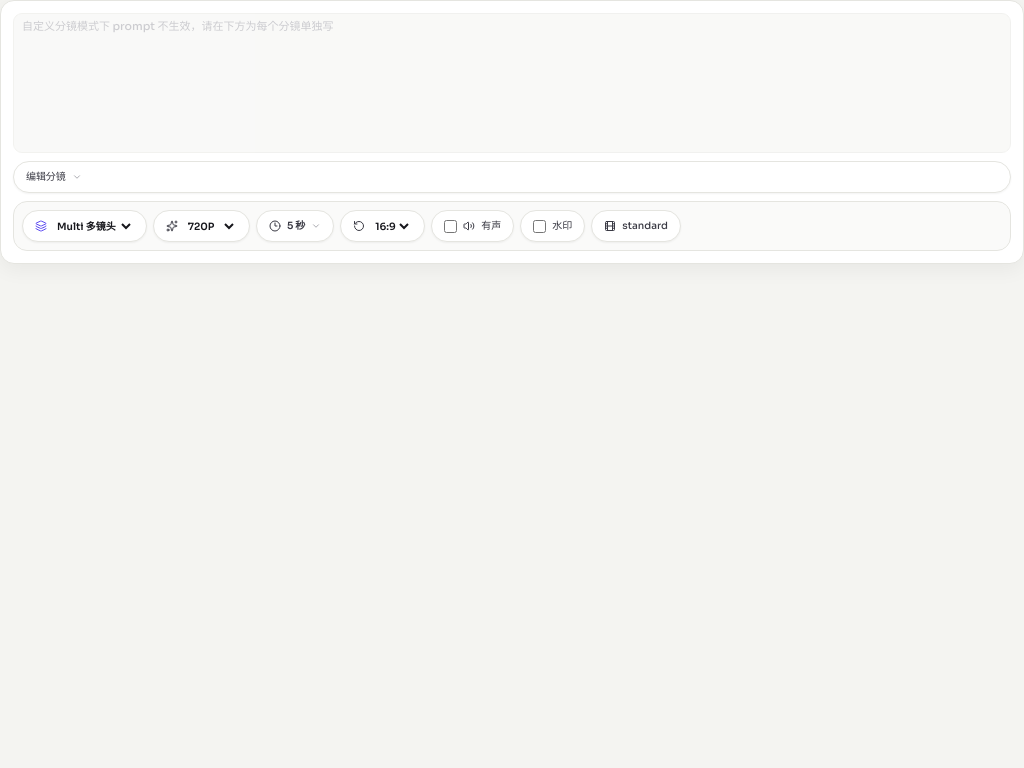
Test: KlingCard 多镜头模式 › Multi mode + 添加 1 个分镜后渲染 index=1 的输入
Click the button with aria-label "多镜头设置": point(46, 176) [13, 161, 1011, 193]
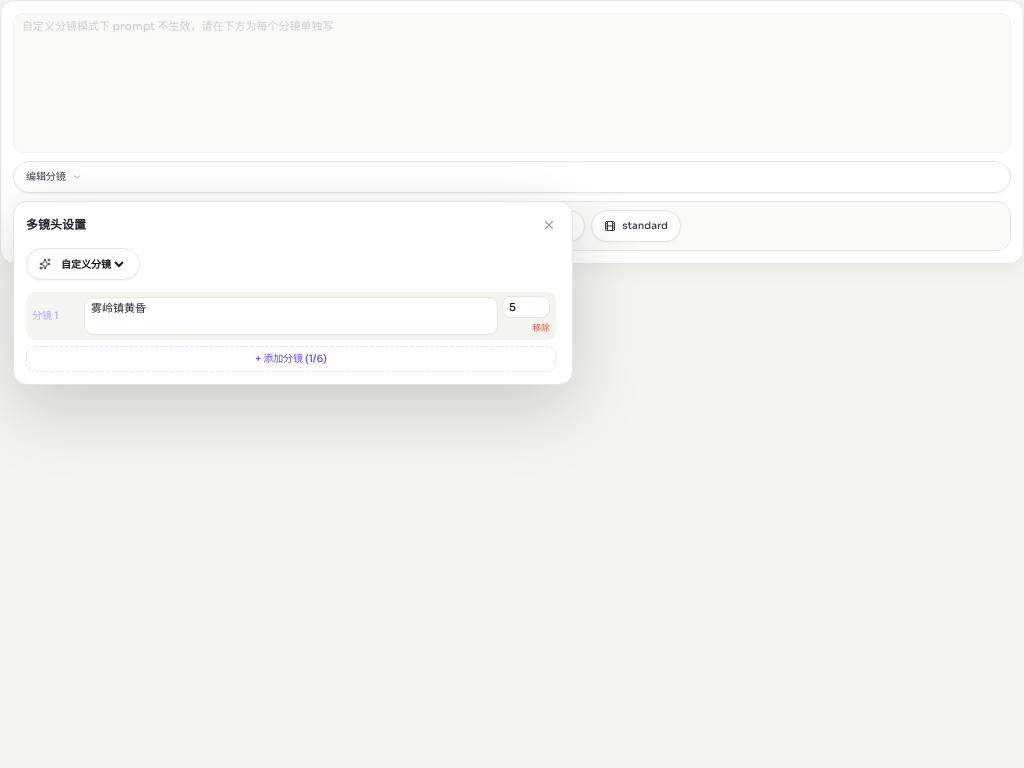
Now the text box showing "雾岭镇黄昏" is shown, box [84, 297, 498, 335]
Now the text "分镜 1" is shown, box [32, 309, 58, 322]
